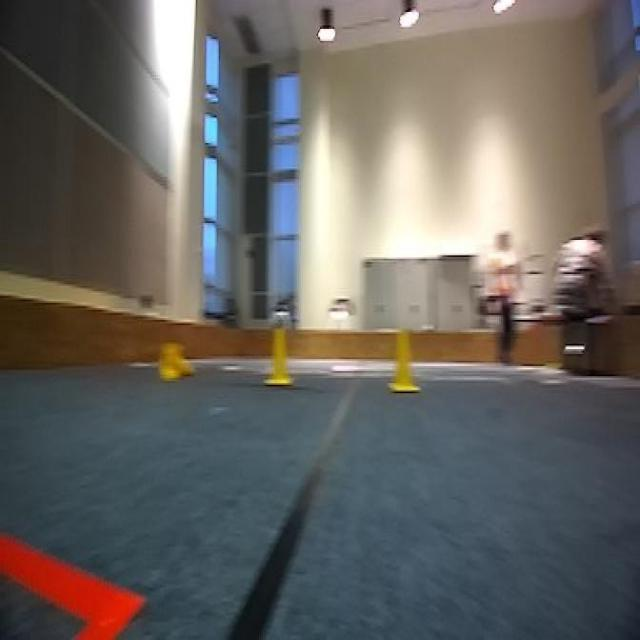frc_cone: (390, 328, 419, 395), (265, 322, 293, 386), (159, 339, 197, 381)
